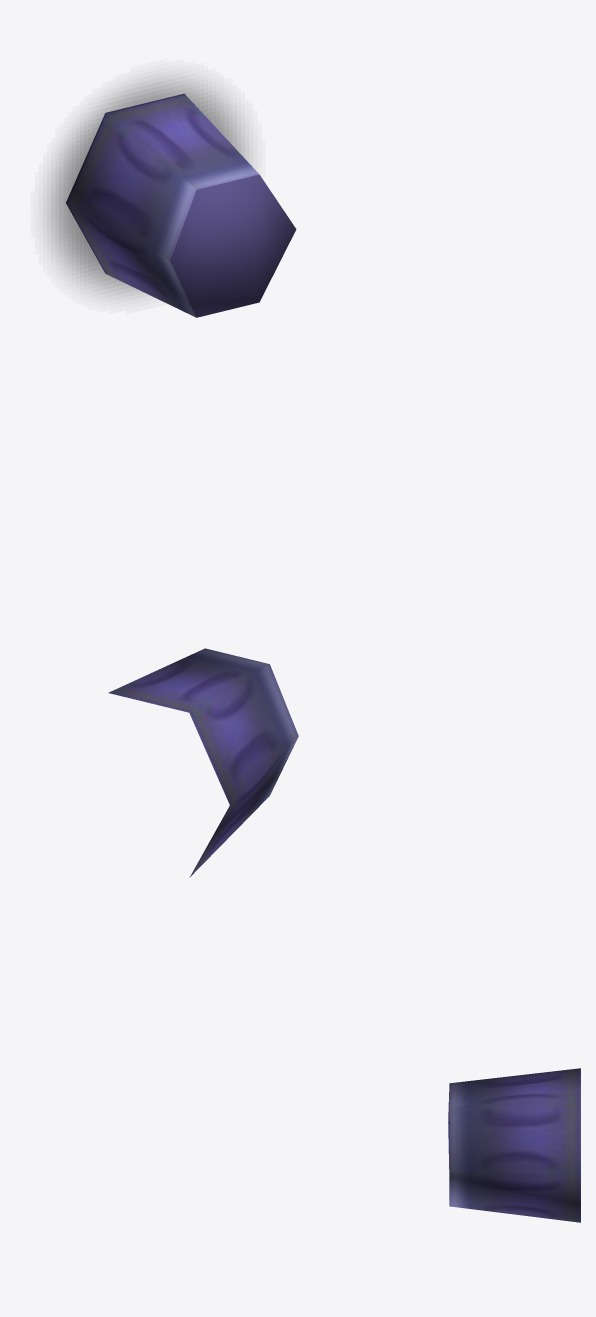
File: prop_MM_flute_lamp.glb
3 views of the same model, one above another, from view 1: azimuth 30°, elevation 25°; view 2: azimuth 150°, elevation 25°; view 3: azimuth 270°, elevation 25° (orthographic). The views are drawn at different scales.
Visible parts, largest first — view 1: lamp1_base2, drop_shadow_1; view 2: lamp1_base2; view 3: lamp1_base2.
Boxes of the visible parts, x1,y1,x2,y2 form: lamp1_base2: (66,93,296,317); drop_shadow_1: (47,76,248,297); lamp1_base2: (108,648,298,877); lamp1_base2: (448,1068,580,1222).
Size of the model in its own units: 3.2 by 3.2 by 7.69.
3 materials, 3 textured.
